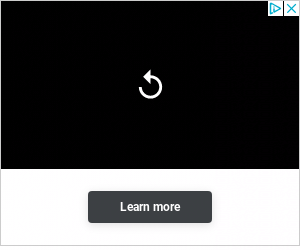fake_button: (74, 187, 220, 233)
